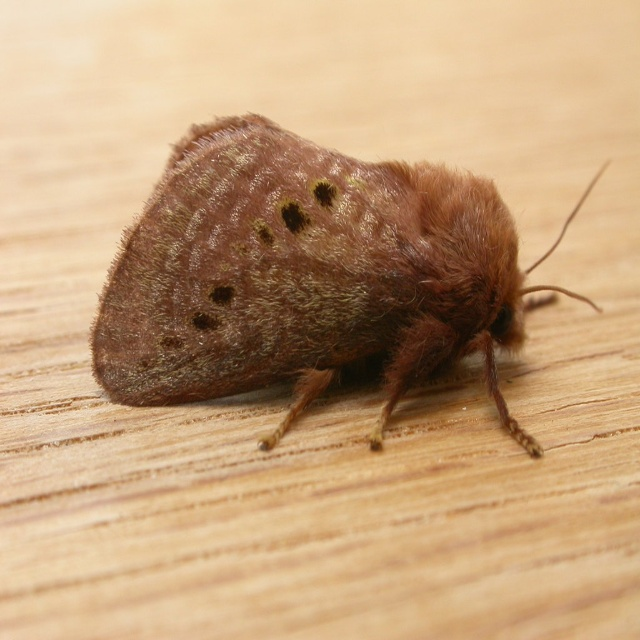Moths and butterflies: (88, 107, 609, 467)
